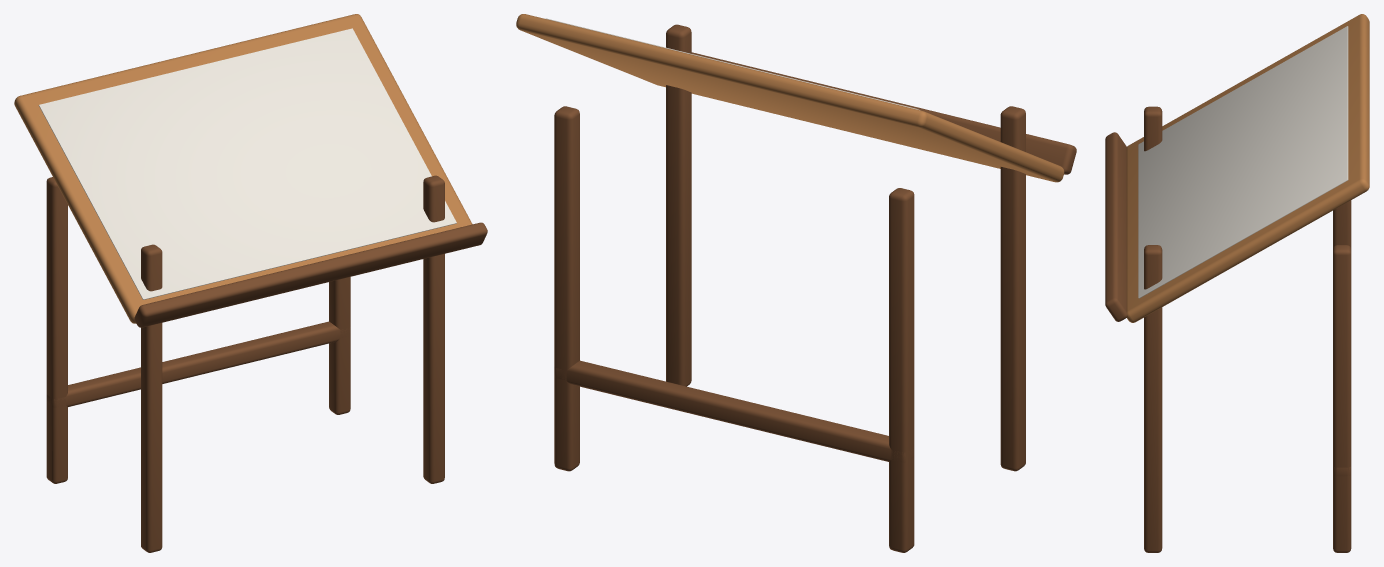
The model's file is prancheta.glb.
3 renders of one model, left to right at view 1: azimuth 30°, elevation 25°; view 2: azimuth 150°, elevation 25°; view 3: azimuth 270°, elevation 25°, orthographic. The views are drawn at different scales.
Visible parts, largest first — view 1: prancheta_face, Cube.005, Cube.006, Cube.001, Cube, Cube.002, Cube.004, Cube.003; view 2: Cube.005, Cube.001, Cube.003, Cube.004, Cube, Cube.002, Cube.006; view 3: prancheta_face, Cube.005, Cube.003, Cube.002, Cube.006, Cube.001, Cube.
Part boxes in pixels (x1,y1,x2,y2): prancheta_face: (38,28,456,299); Cube.005: (14,14,472,323); Cube.006: (134,222,487,327); Cube.001: (46,177,67,483); Cube: (141,244,162,552); Cube.002: (423,175,444,483); Cube.004: (46,321,350,407); Cube.003: (329,277,350,414); Cube.005: (516,14,1064,182); Cube.001: (889,188,914,552); Cube.003: (554,106,579,471); Cube.004: (554,360,913,462); Cube: (1000,106,1025,471); Cube.002: (666,24,691,386); Cube.006: (691,52,1076,174); prancheta_face: (1138,26,1348,298); Cube.005: (1126,14,1369,322); Cube.003: (1333,245,1351,552); Cube.002: (1144,245,1162,552); Cube.006: (1105,132,1126,321); Cube.001: (1333,200,1351,248); Cube: (1144,106,1162,151).
Bounding box in the file's own units: 1.1 × 1.17 × 0.7267.
